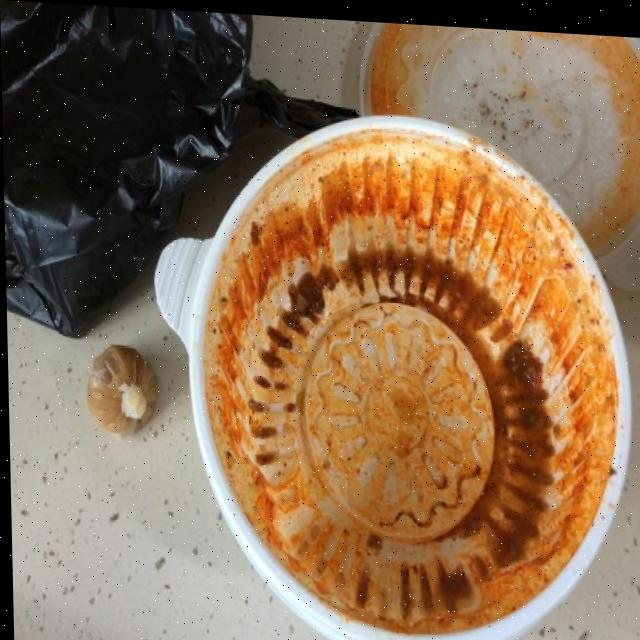disposable: (138, 86, 640, 640)
